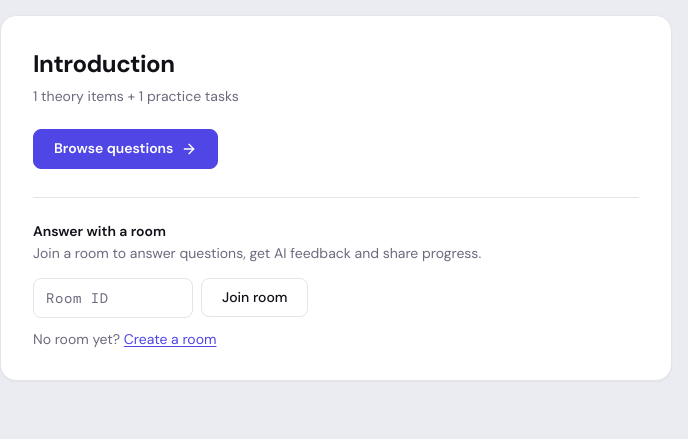
Contest › shows an error when join is submitted without a room id
What coordinates should you click on to do the following:
click the button "Join room"
I would click on:
 (255, 298)
Its box is x1=201 y1=278 x2=308 y2=317.
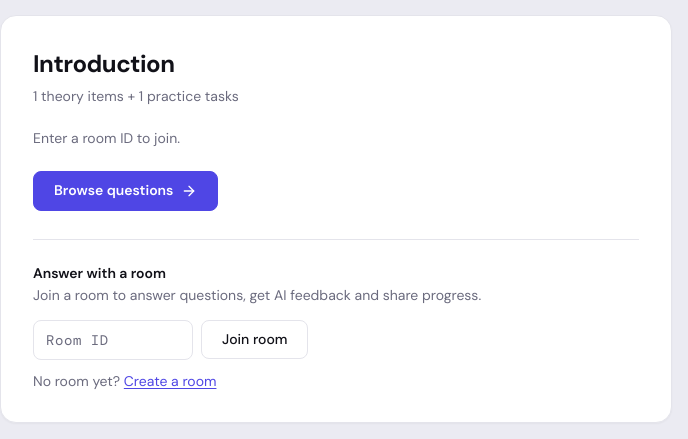
Check: the text "Enter a room ID to join." is shown, box x1=33 y1=129 x2=180 y2=147
